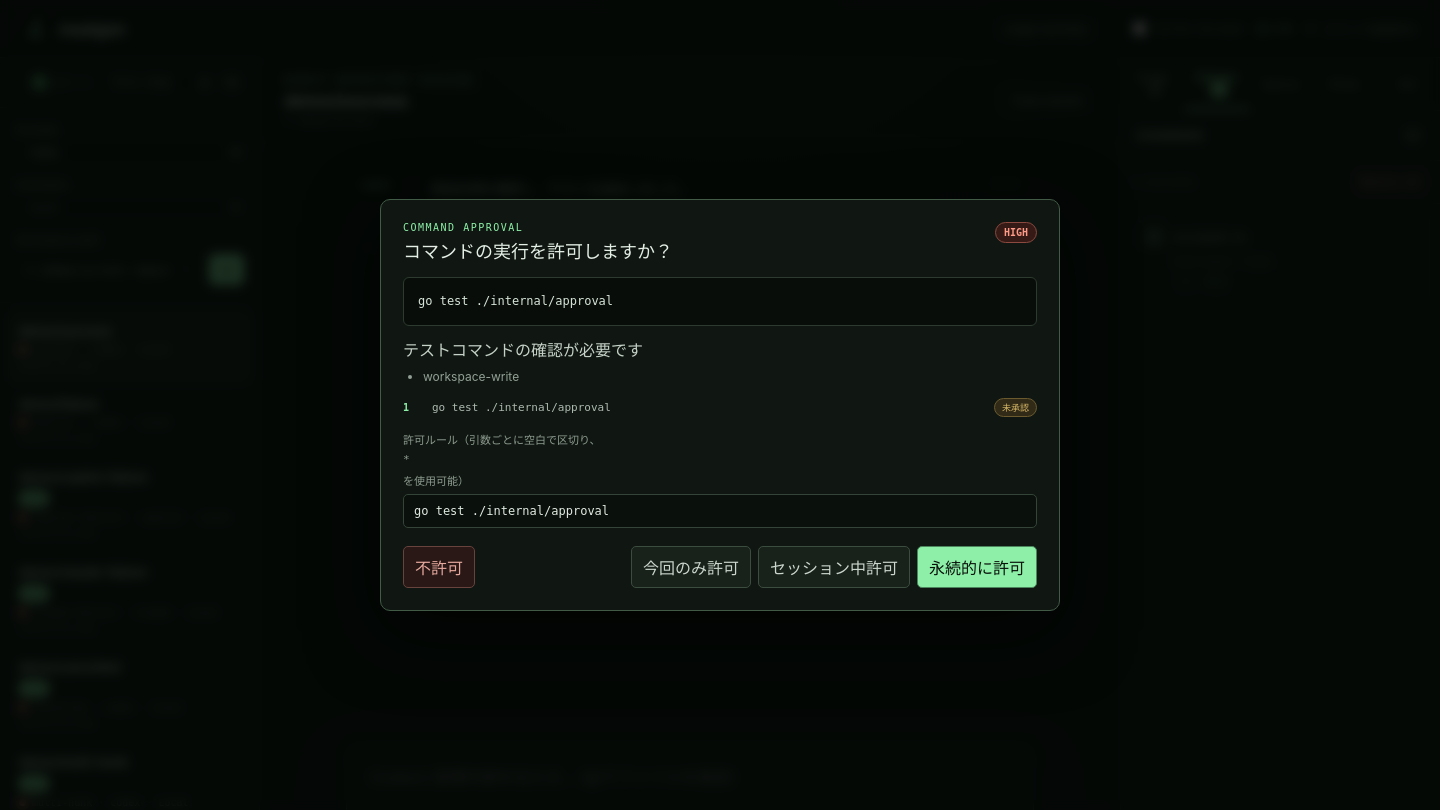
Test case: App with MockAgentApi › shows the error inside the approval dialog when a rule is rejected, instead of hiding it behind the modal
The width and height of the screenshot is (1440, 810).
Replace the text in the field labelled "許可ルール（引数ごとに空白で区切り、 * を使用可能）" with "$env:GOCACHE=*" at coordinates (720, 511), box [403, 494, 1037, 528]
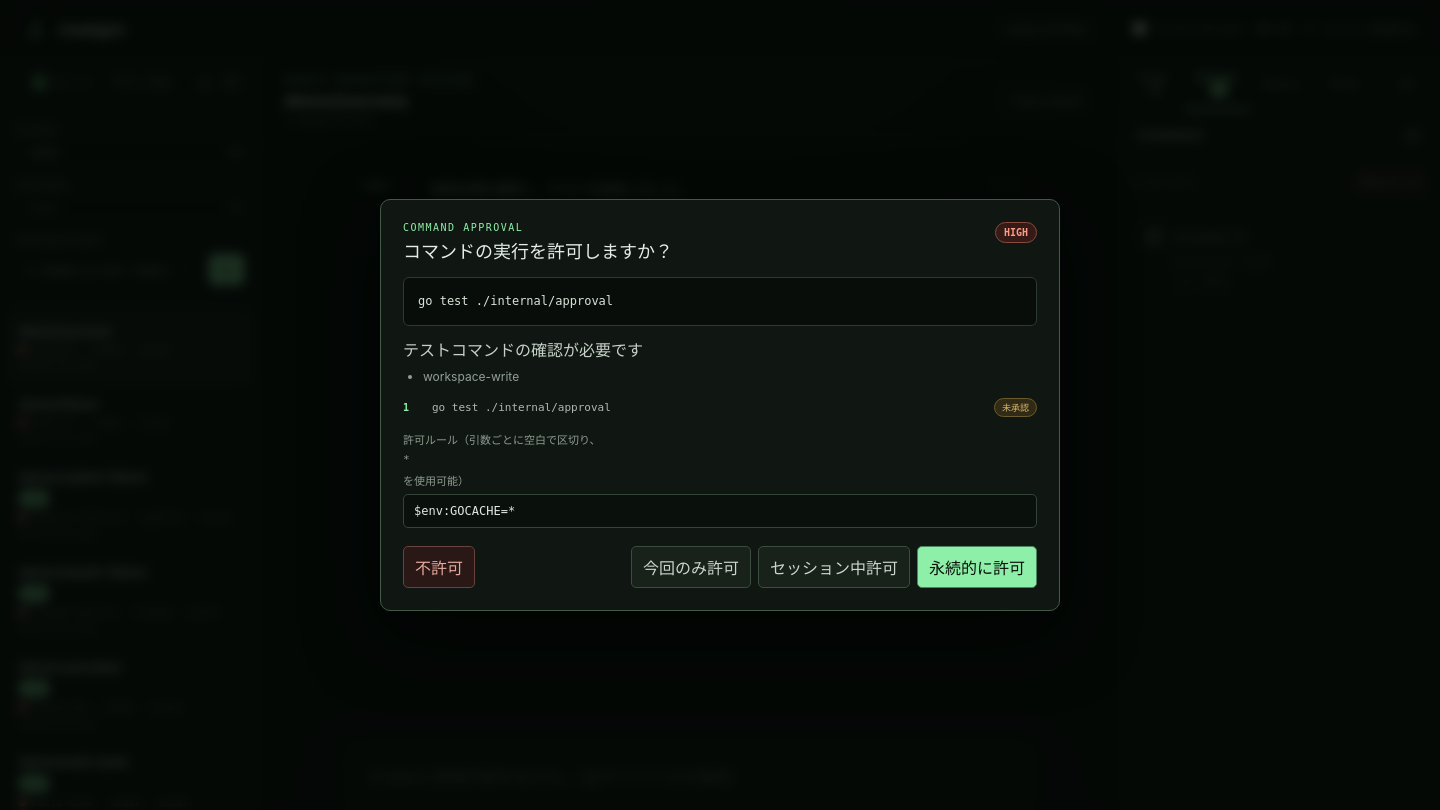
Click the button "永続的に許可" at coordinates (977, 567), box [917, 546, 1037, 588]
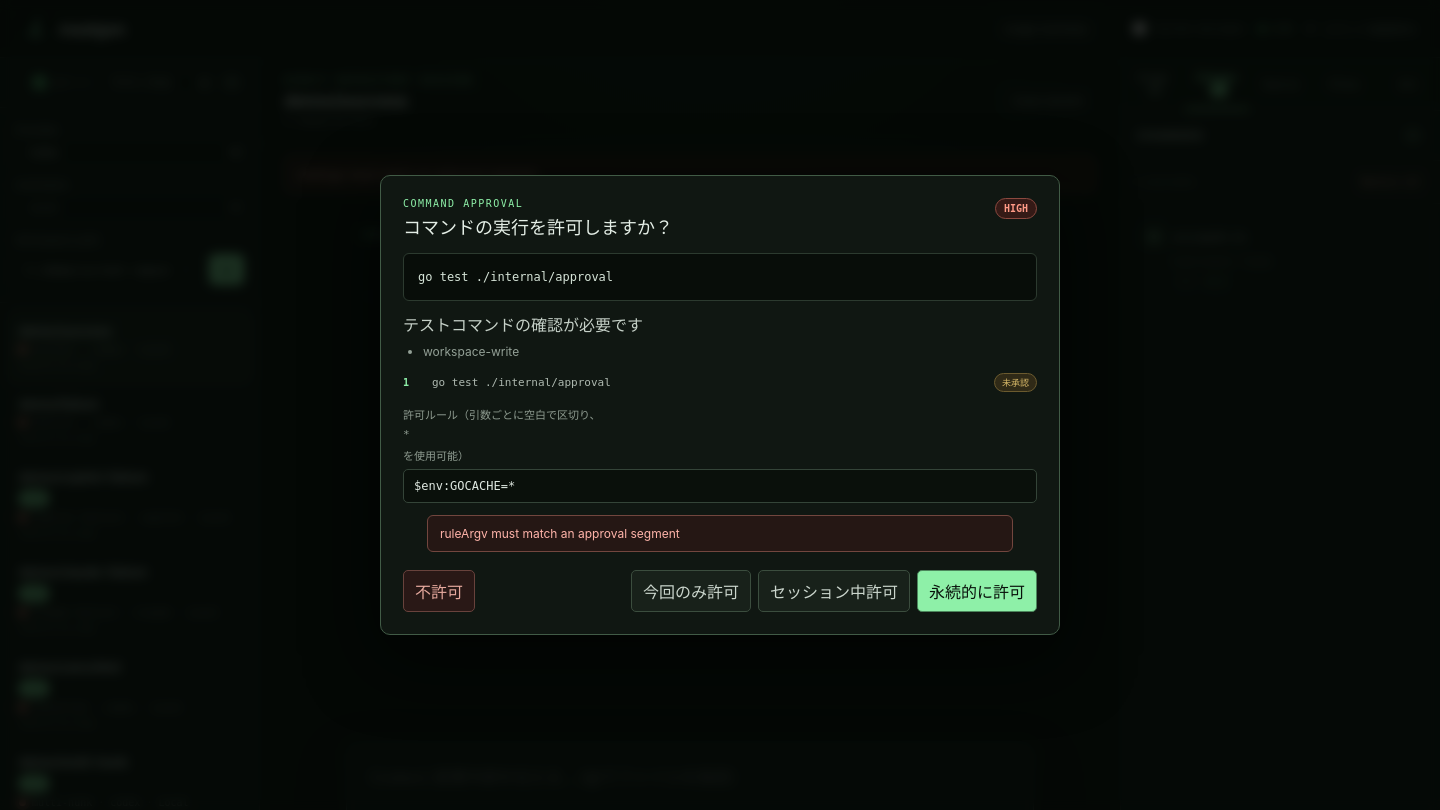
expect the dialog with class "approval-dialog" is shown: met, box [380, 175, 1060, 635]
expect the message with class "error-banner" reads "ruleArgv must match an approval segment": met, box [440, 526, 680, 541]
